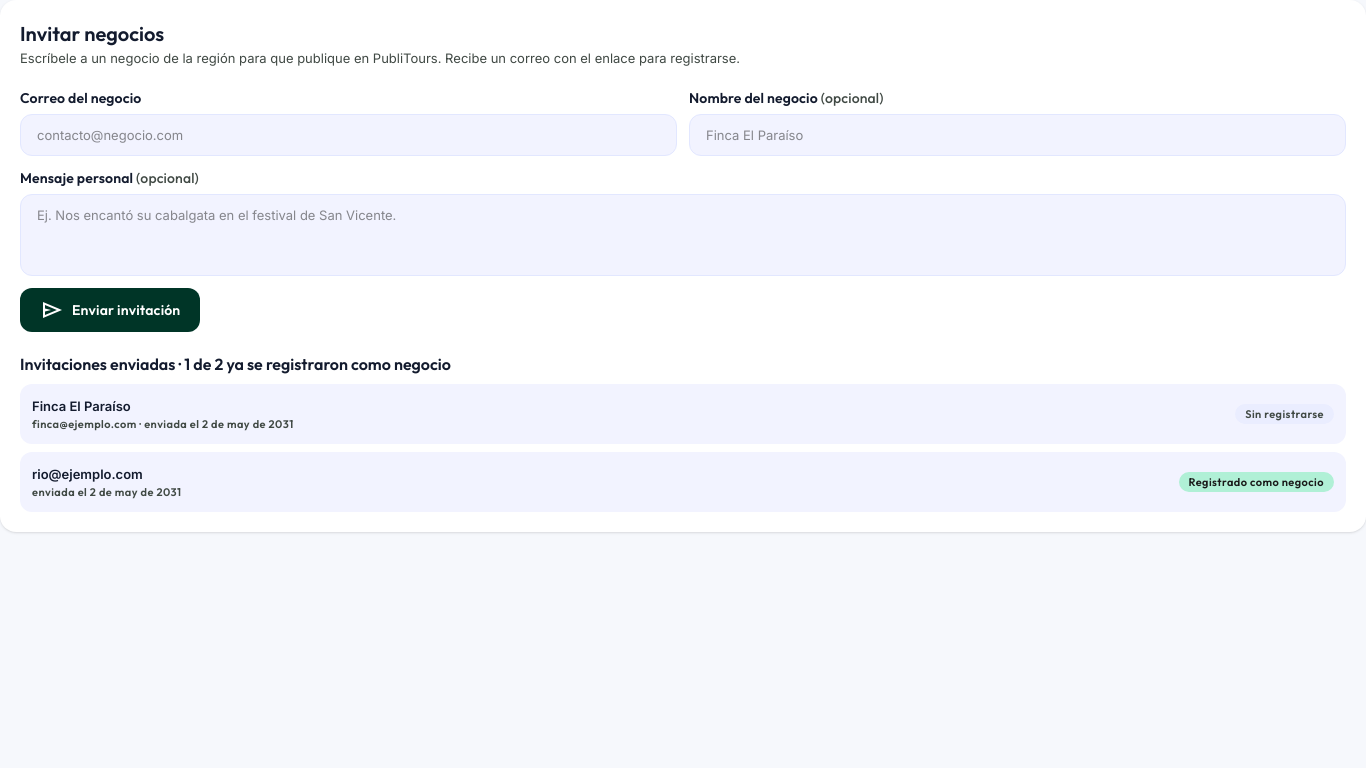
InvitacionesAdmin › muestra el motivo si el servidor no la envía
Expected: the text "Finca El Paraíso" is shown, 32,398 -> 131,414
In the field labelled "Correo del negocio": (348, 135) 20,114 -> 677,156, type "ya@ejemplo.com"
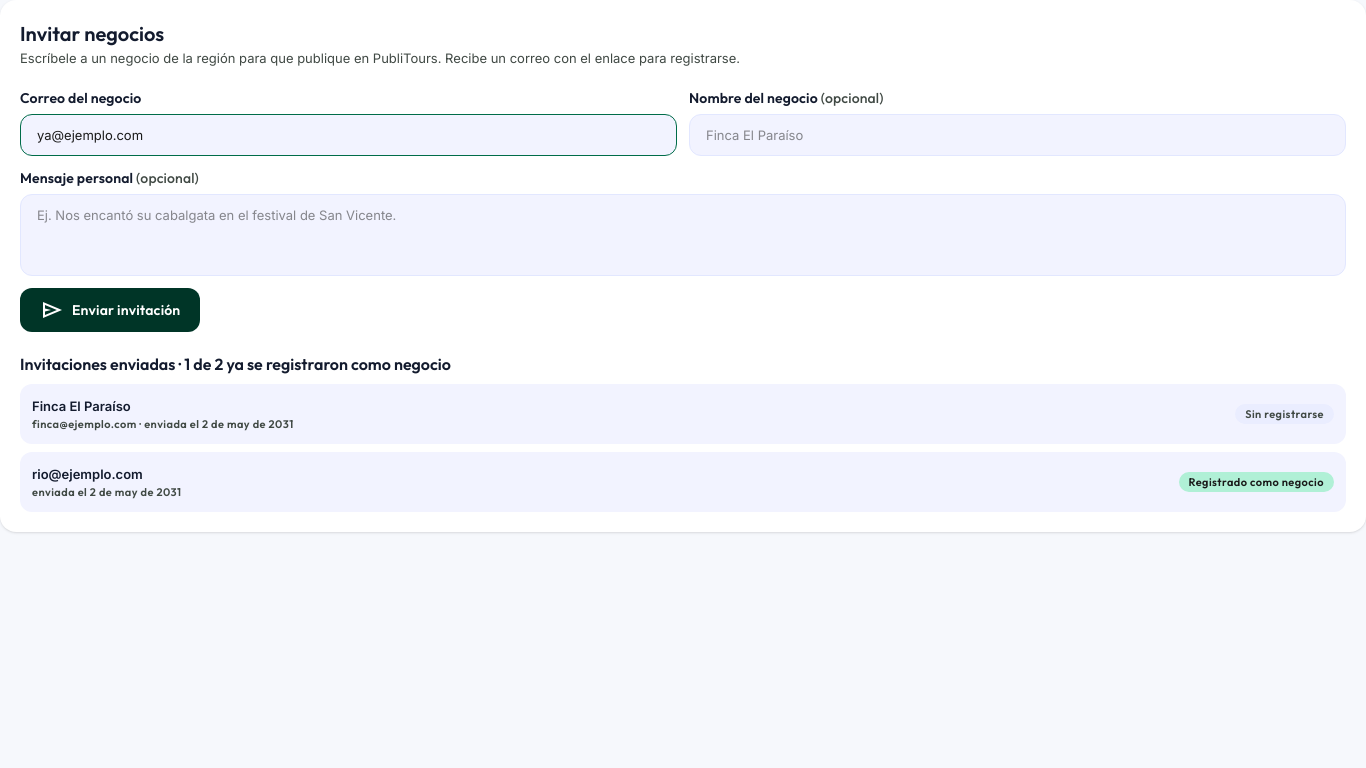
Click the button "Enviar invitación": (110, 310) 20,288 -> 200,332
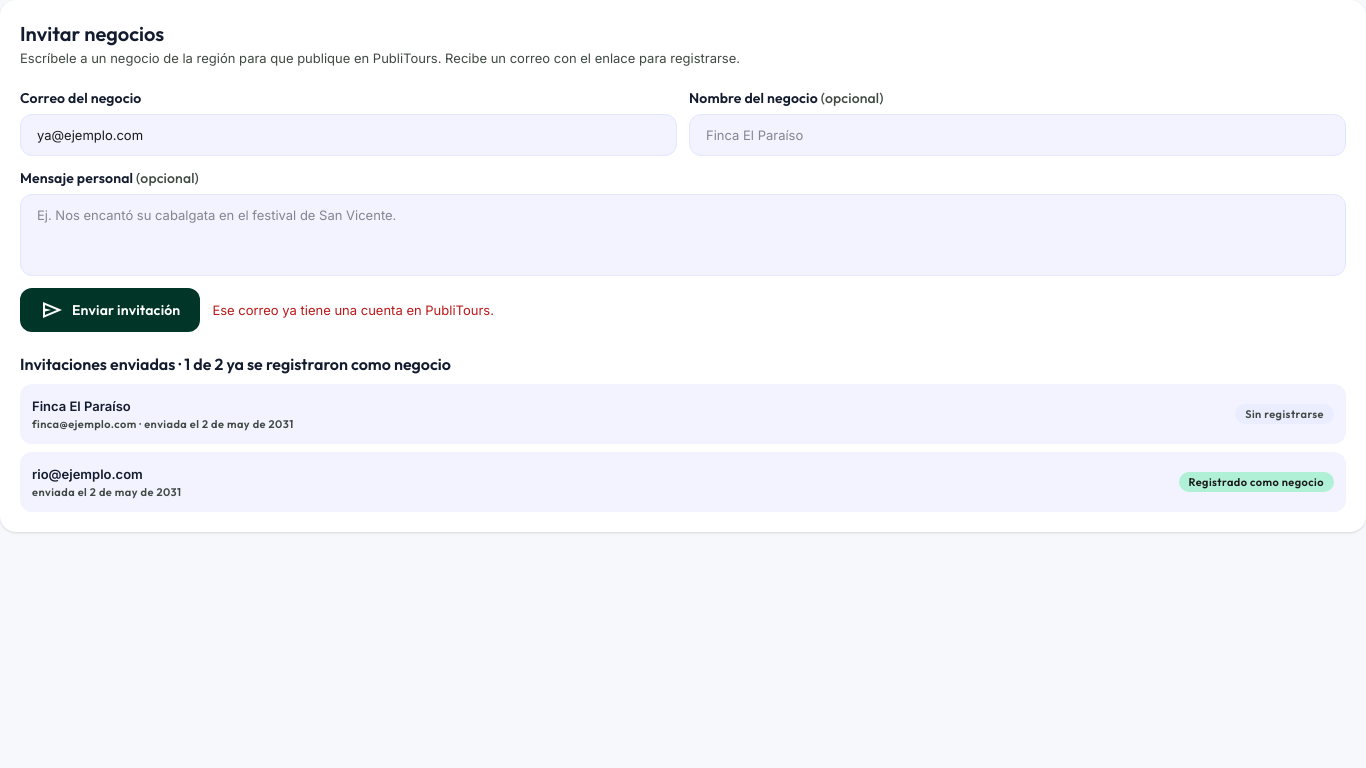
Expected: the message shows "ya tiene una cuenta", 212,302 -> 494,318
